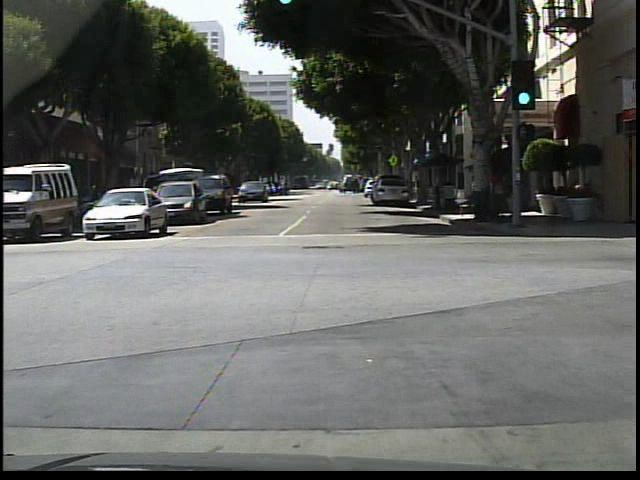person: (507, 161, 522, 227), (433, 170, 447, 215), (279, 183, 287, 198)
